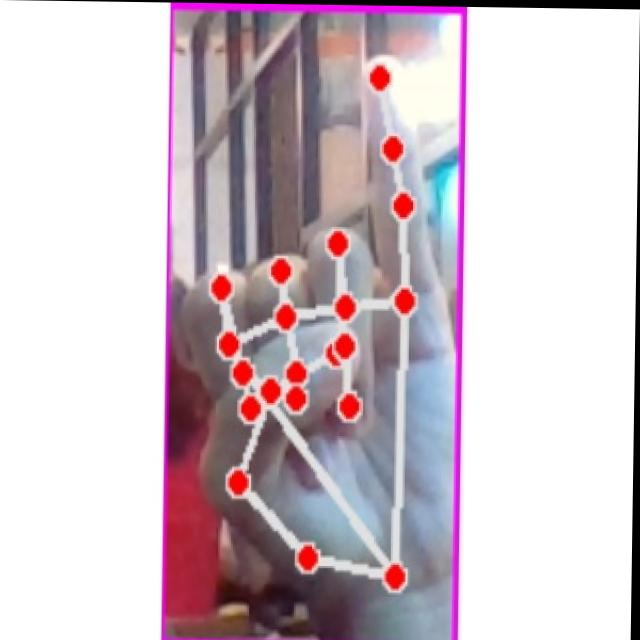I: (179, 45, 455, 622)
